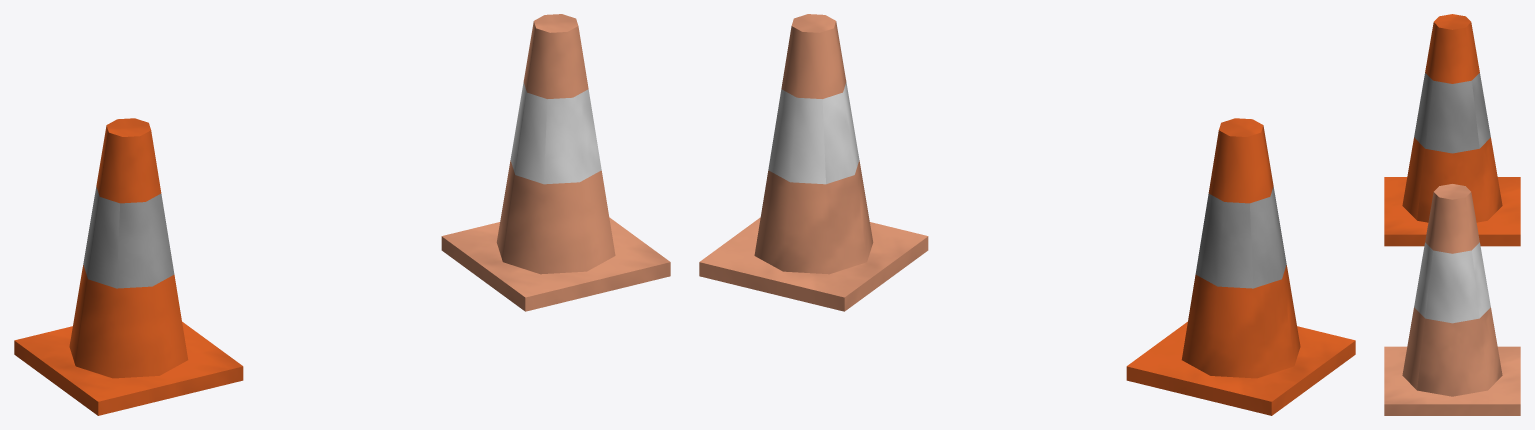
File: SM_TrafficCones.fbx
The picture shows the model from 3 angles, left to right: view 1: azimuth 30°, elevation 25°; view 2: azimuth 150°, elevation 25°; view 3: azimuth 270°, elevation 25°; orthographic projection. The views are drawn at different scales.
Parts seen in each view (by area): view 1: SM_TrafficConeObstacle, SM_TrafficConeBackground; view 2: SM_TrafficConeObstacle, SM_TrafficConeBackground; view 3: SM_TrafficConeBackground, SM_TrafficConeObstacle.
Boxes of the visible parts, x1=… form: SM_TrafficConeObstacle: x1=14, y1=118, x2=243, y2=415; SM_TrafficConeBackground: x1=441, y1=14, x2=670, y2=311; SM_TrafficConeObstacle: x1=1126, y1=118, x2=1355, y2=415; SM_TrafficConeBackground: x1=699, y1=14, x2=928, y2=311; SM_TrafficConeBackground: x1=1384, y1=184, x2=1520, y2=415; SM_TrafficConeObstacle: x1=1384, y1=14, x2=1520, y2=246.
Size of the model in its own units: 1.77 by 0.71 by 0.45.
